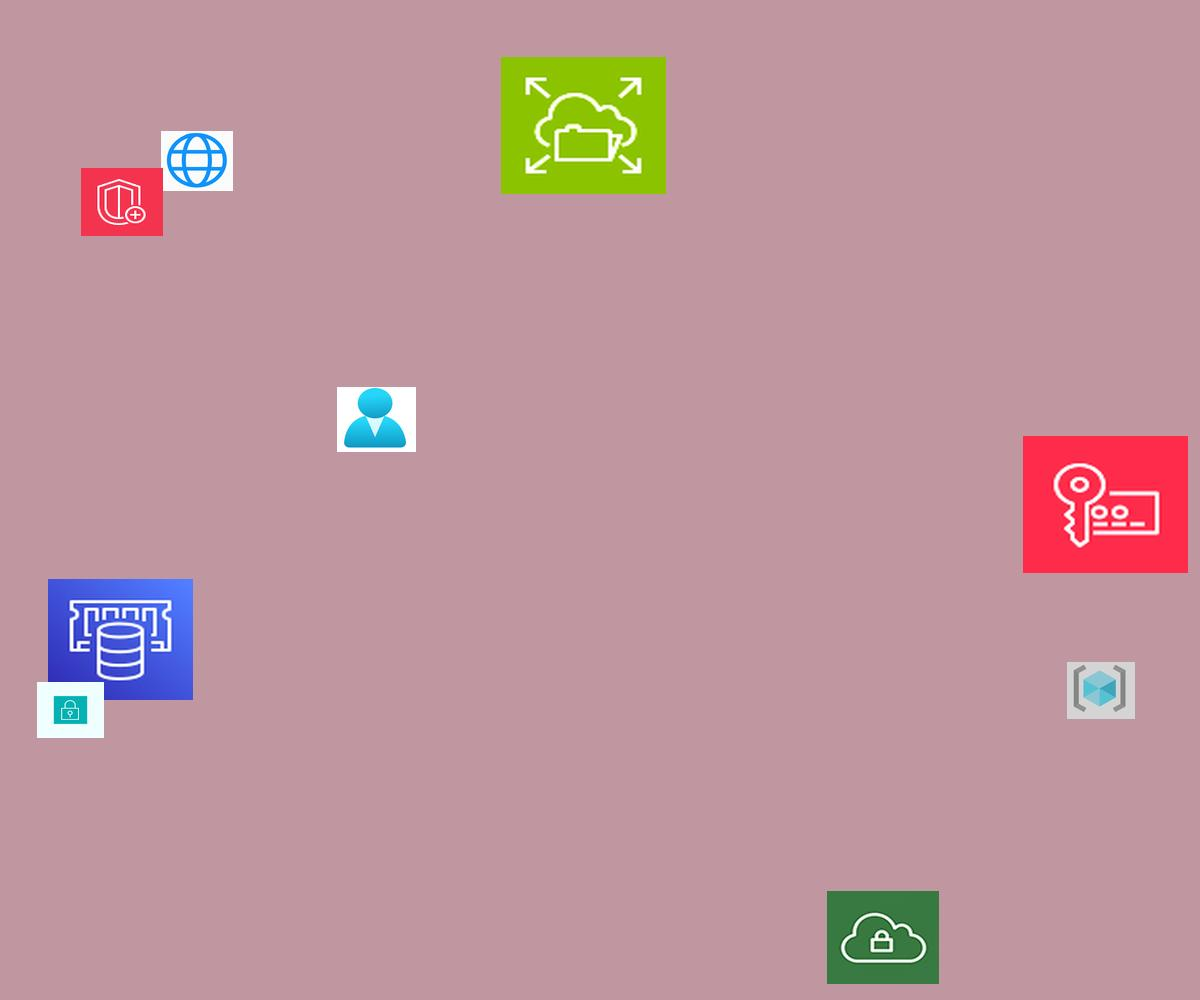AWS-EFS: (501, 57, 666, 194)
AWS-ElastiCache: (48, 579, 193, 700)
AWS-Key-Management-Service: (1023, 436, 1188, 573)
AWS-Private-subnet: (37, 682, 104, 738)
AWS-Private_vpc: (827, 891, 939, 984)
AWS-Shield: (81, 168, 163, 236)
Azure_http: (161, 131, 233, 191)
Azure_resource_group: (1067, 662, 1135, 719)
Azure_users: (337, 387, 416, 452)
